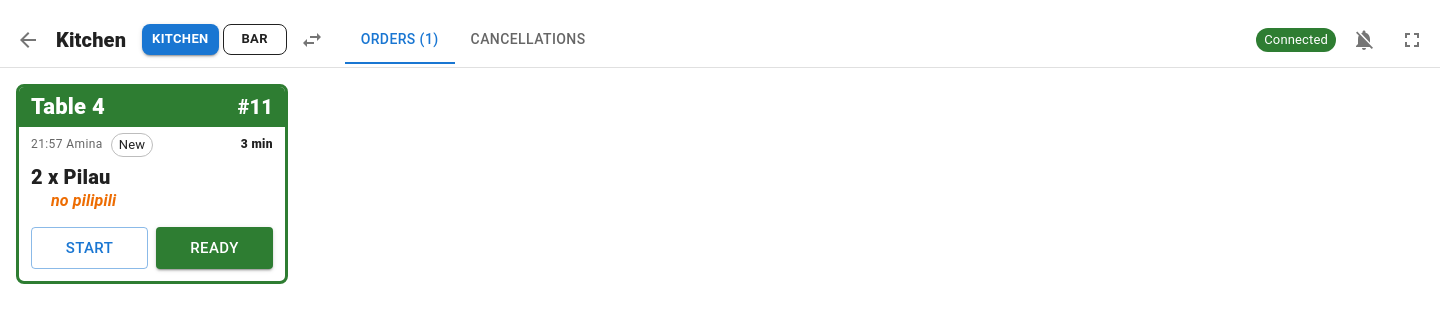
Test case: Kitchen station screen › lets the device change station
The image size is (1440, 329).
Expected: the element with test id "card-1" is shown, [16,84,288,284]
Click the button named "Change station": (312, 40) [295,22,329,56]
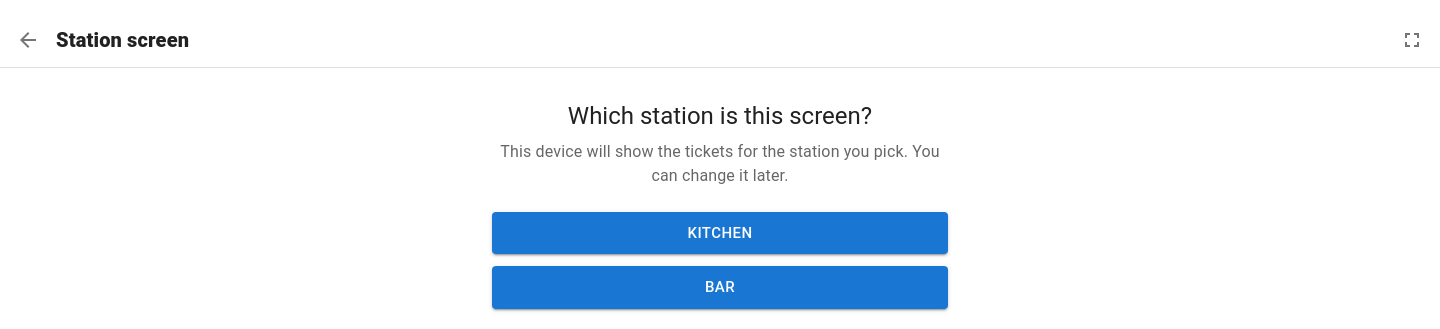
Now the heading "Which station is this screen?" is shown, box [568,102,872,130]
